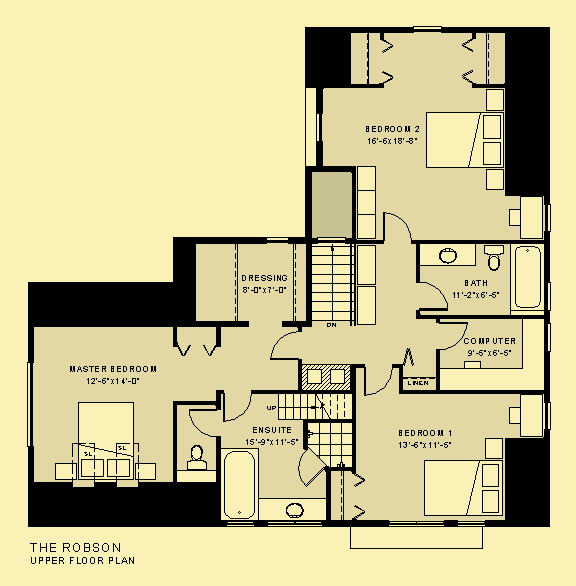bed: (422, 459, 506, 521), (423, 109, 506, 171), (74, 400, 136, 481)
door: (360, 364, 398, 399), (293, 447, 326, 487), (414, 280, 450, 314), (268, 329, 301, 364), (379, 209, 412, 243), (436, 320, 469, 353), (187, 407, 220, 440), (222, 390, 254, 423)
large_sink: (181, 443, 213, 472), (482, 242, 506, 275)
small_sink: (260, 496, 329, 525), (419, 245, 477, 267)
stairs: (309, 242, 356, 329), (276, 394, 353, 421)
tub: (220, 444, 261, 521), (510, 244, 545, 315)
window: (23, 361, 36, 448), (410, 22, 446, 36), (313, 113, 326, 145)
